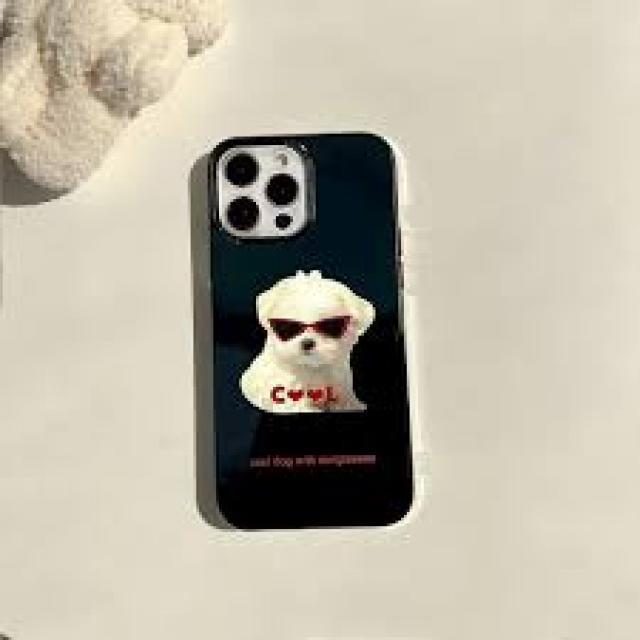phone: (210, 129, 418, 533)
